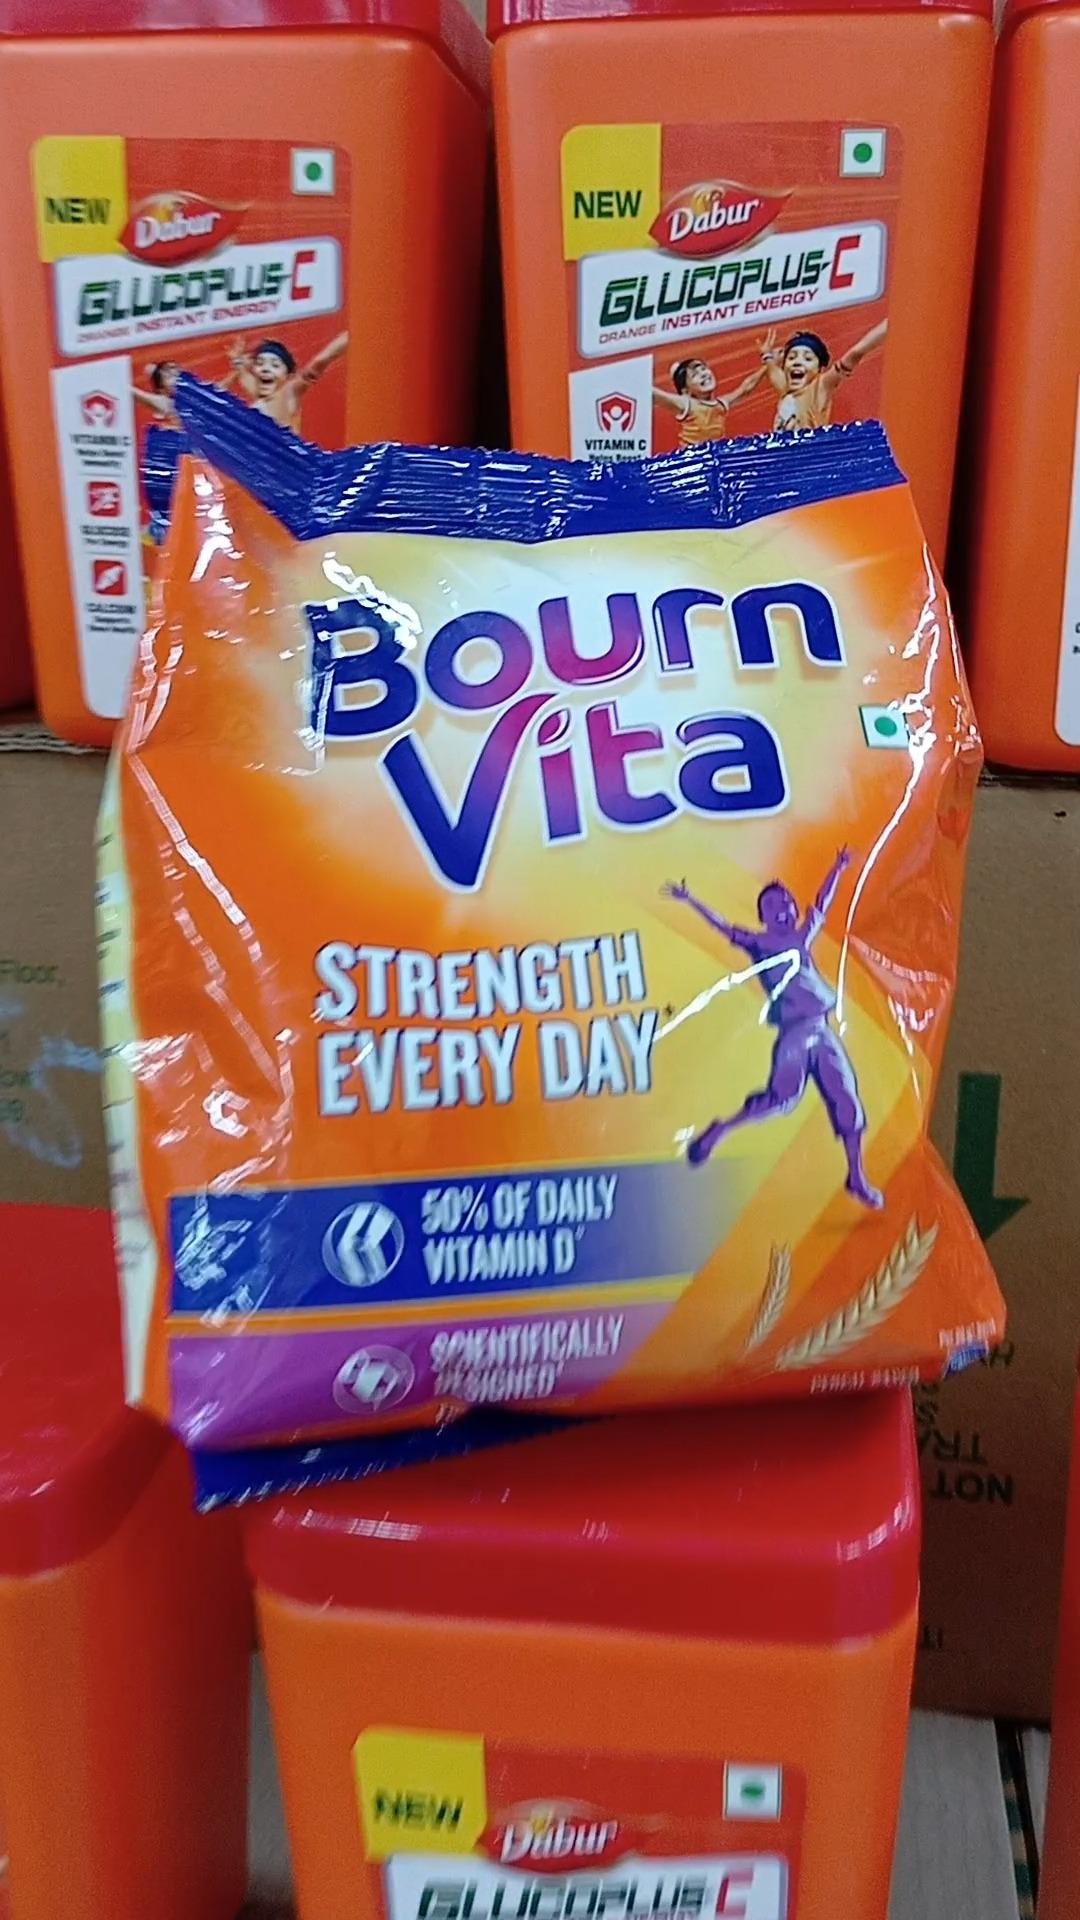BOURN_VITA_500_G_POUCH: (125, 360, 1014, 1458)
